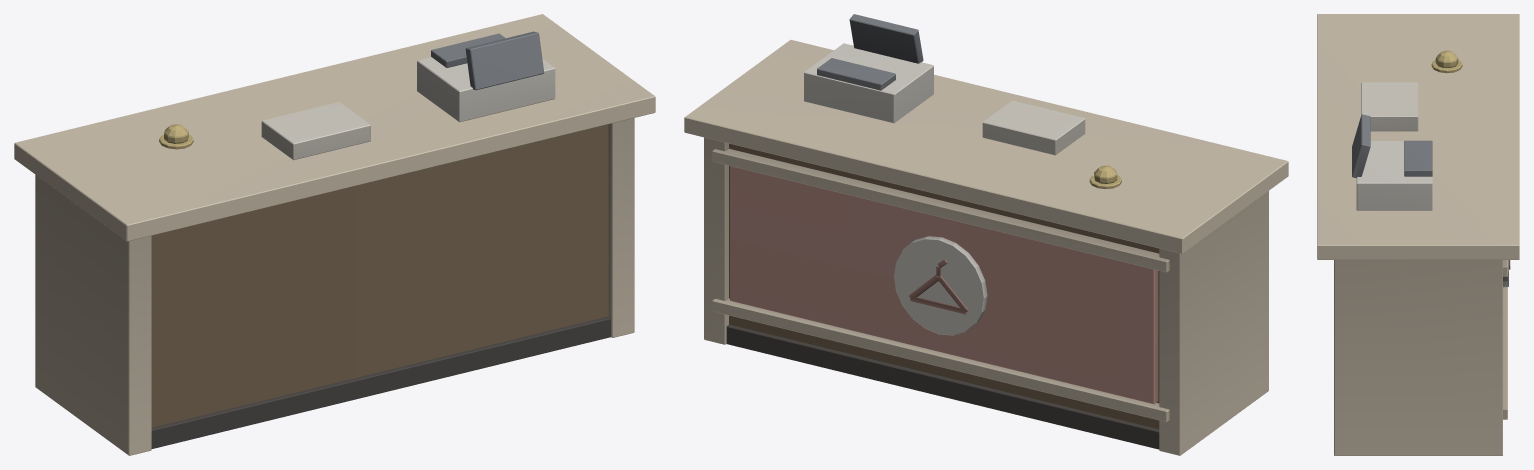
Rendered from mall_counter__f2.glb.
3 renders of one model, left to right at view 1: azimuth 30°, elevation 25°; view 2: azimuth 150°, elevation 25°; view 3: azimuth 270°, elevation 25°, orthographic. The views are drawn at different scales.
Parts seen in each view (by area): view 1: mall.counter__f2; view 2: mall.counter__f2; view 3: mall.counter__f2.
Boxes of the visible parts, left/top/right/bottom form: mall.counter__f2: left=14, top=14, right=655, bottom=455; mall.counter__f2: left=684, top=14, right=1288, bottom=455; mall.counter__f2: left=1317, top=14, right=1519, bottom=455.
Size of the model in its own units: 2.3 by 1.28 by 0.85.
